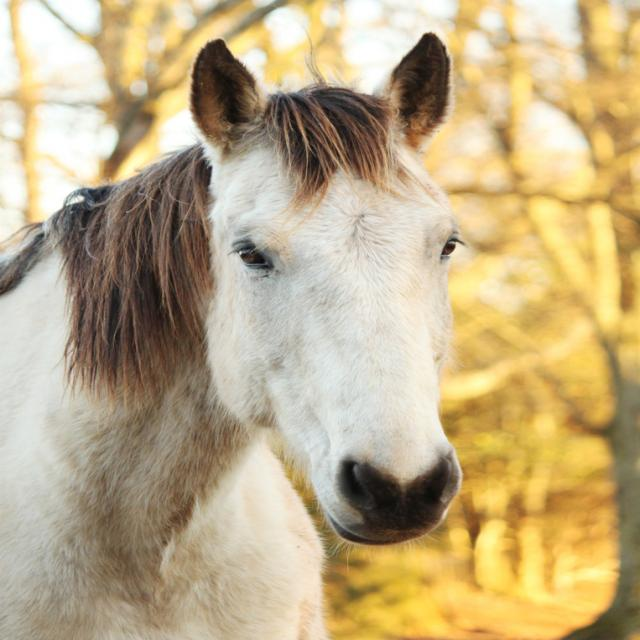Horse: (0, 19, 474, 640)
